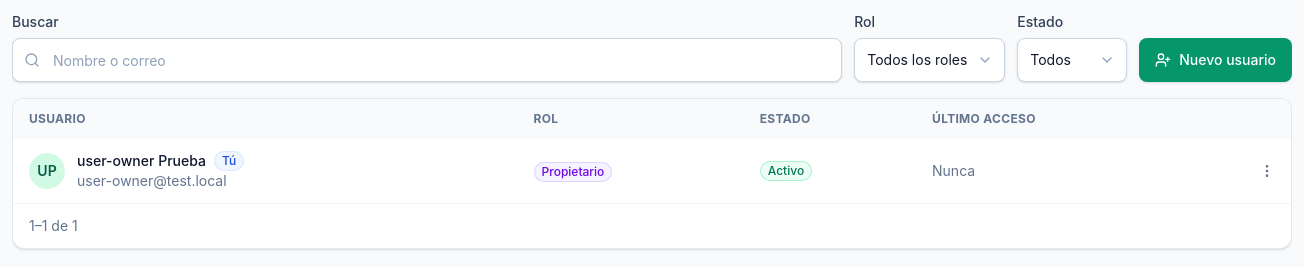
Scenario: UsersListPage › el propietario no puede desactivarse ni restablecer su contraseña desde la lista
Expected: the text "Tú" is shown, [214,151,244,171]
Click the button named "Acciones para".
click(1267, 171)  # box [1251,155,1283,187]
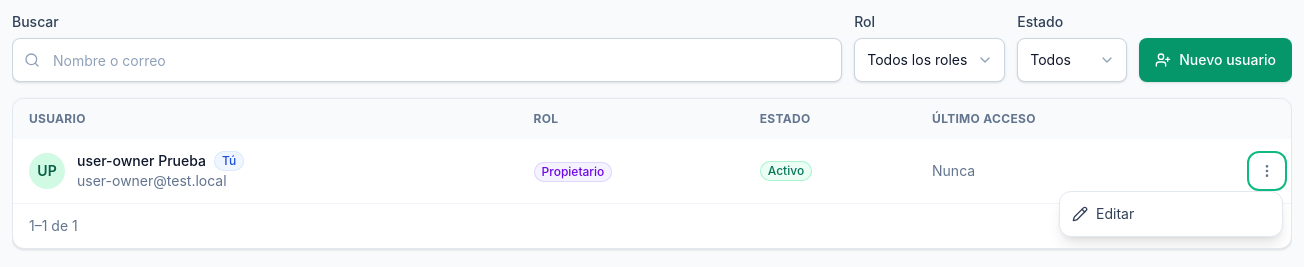
Result: the menu item "Editar" is shown at [1060,196,1282,232]
